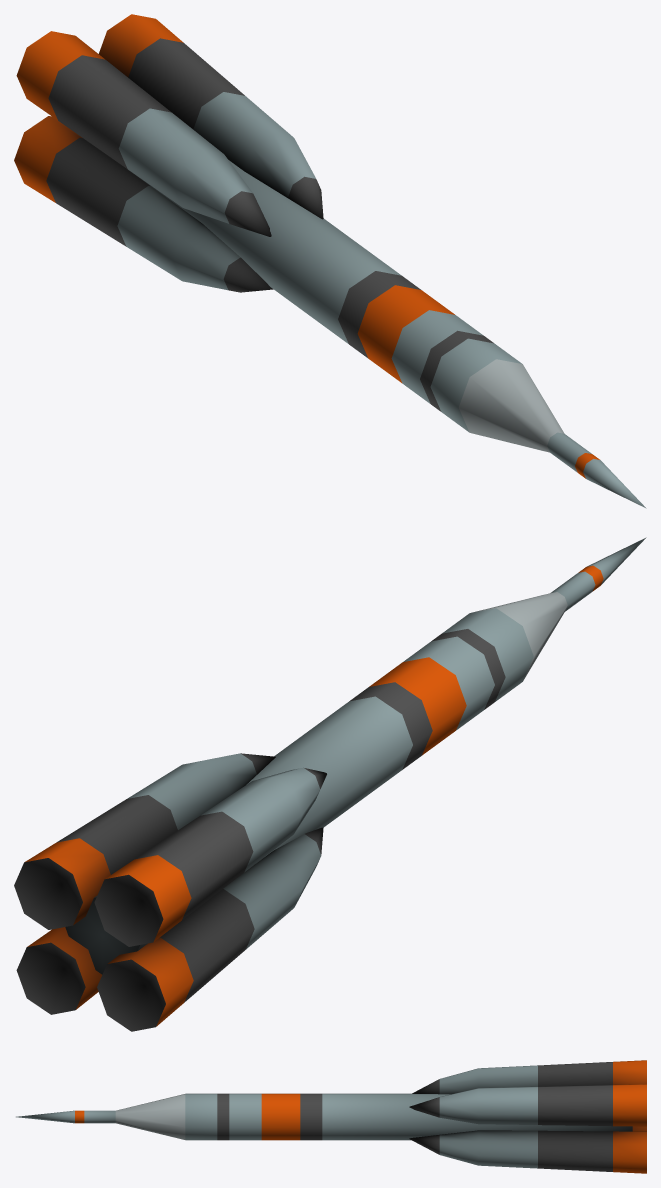
File: space-spacecraft-rocket_v1.fbx
3 renders of one model, top to bottom at view 1: azimuth 30°, elevation 25°; view 2: azimuth 150°, elevation 25°; view 3: azimuth 270°, elevation 25°, orthographic. The views are drawn at different scales.
Parts seen in each view (by area): view 1: Rocket; view 2: Rocket; view 3: Rocket.
Part boxes in pixels (x1=…): Rocket: x1=14, y1=14, x2=646, y2=508; Rocket: x1=14, y1=537, x2=646, y2=1031; Rocket: x1=16, y1=1060, x2=646, y2=1173.
Size of the model in its own units: 7.88 by 7.88 by 50.
